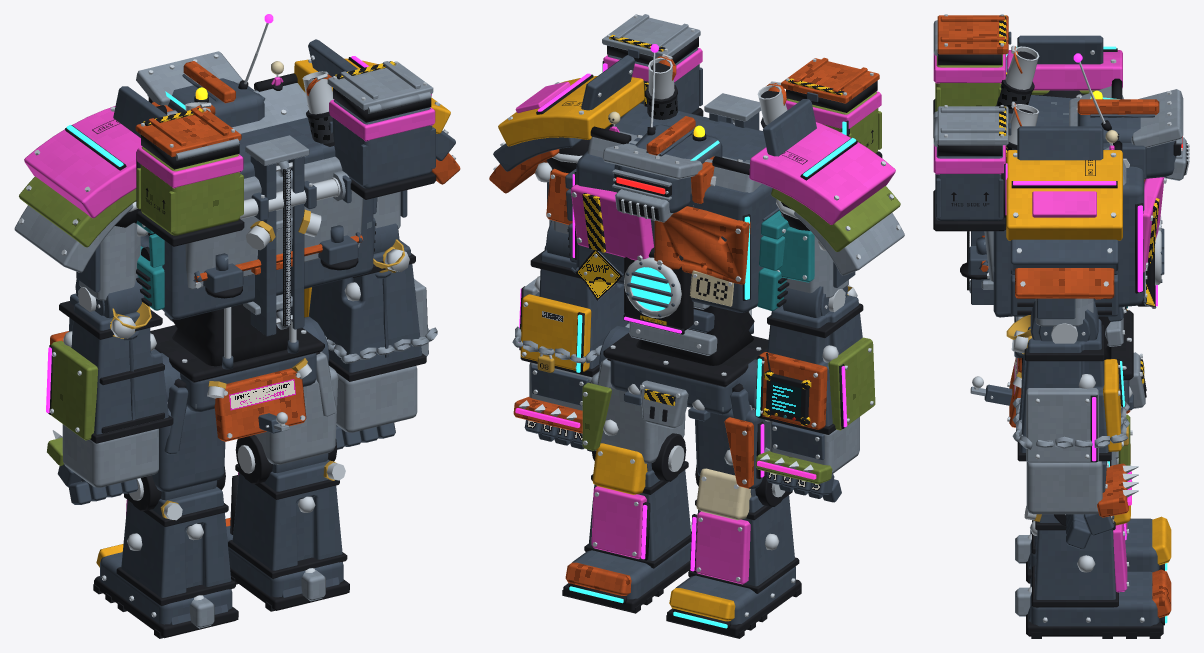
File: x_rig.glb
The picture shows the model from 3 angles, left to right: view 1: azimuth 30°, elevation 25°; view 2: azimuth 150°, elevation 25°; view 3: azimuth 270°, elevation 25°; orthographic projection. The views are drawn at different scales.
Parts seen in each view (by area): view 1: torso_gun, shinR_gun, shinL_gun, foreR_gun, torso_steel, foreL_gun, pauldL_accent, podL_olive, podR_gun, rack_gun, torso_black, thighL_gun (+52 smaller); view 2: torso_gun, pauldL_accent, torso_rust, torso_black, foreL_gun, pauldR_ochre, foreR_gun, hips_gun, hips_black, foreR_ochre, shinL_accent, torso_accent (+62 smaller); view 3: pauldR_ochre, torso_gun, pauldR_gun, shinR_gun, foreR_steel, foreR_gun, fistR_steel, footR_gun, podR_gun, pauldR_rust, lidR_steel, lidL_rust (+45 smaller).
Part boxes in pixels (x1,y1,x2,y2): torso_gun: [140, 117, 377, 319]; shinR_gun: [232, 453, 342, 597]; shinL_gun: [121, 480, 231, 624]; foreR_gun: [308, 223, 422, 372]; torso_steel: [164, 83, 363, 321]; foreL_gun: [69, 274, 168, 434]; pauldL_accent: [24, 106, 141, 218]; podL_olive: [136, 146, 243, 235]; podR_gun: [329, 100, 435, 203]; rack_gun: [250, 156, 316, 336]; torso_black: [148, 73, 358, 366]; thighL_gun: [152, 353, 225, 491]; torso_gun: [565, 103, 778, 332]; pauldL_accent: [749, 122, 895, 224]; torso_rust: [654, 56, 786, 284]; torso_black: [574, 126, 754, 365]; foreL_gun: [767, 286, 862, 426]; pauldR_ochre: [498, 76, 644, 146]; foreR_gun: [534, 220, 629, 368]; hips_gun: [610, 359, 749, 421]; hips_black: [603, 333, 768, 392]; foreR_ochre: [520, 294, 591, 371]; shinL_accent: [695, 511, 750, 584]; torso_accent: [571, 184, 653, 260]; pauldR_ochre: [1006, 150, 1122, 240]; torso_gun: [968, 95, 1144, 321]; pauldR_gun: [1010, 126, 1118, 271]; shinR_gun: [1028, 514, 1115, 621]; foreR_steel: [1026, 388, 1098, 462]; foreR_gun: [1020, 301, 1108, 452]; fistR_steel: [1026, 461, 1102, 514]; footR_gun: [1030, 571, 1159, 626]; podR_gun: [935, 145, 1003, 220]; pauldR_rust: [1015, 268, 1114, 298]; lidR_steel: [933, 106, 1008, 145]; lidL_rust: [937, 15, 1008, 54].
Bounding box in the file's own units: 2.07 × 2.86 × 1.19.
24 materials, 15 textured.
